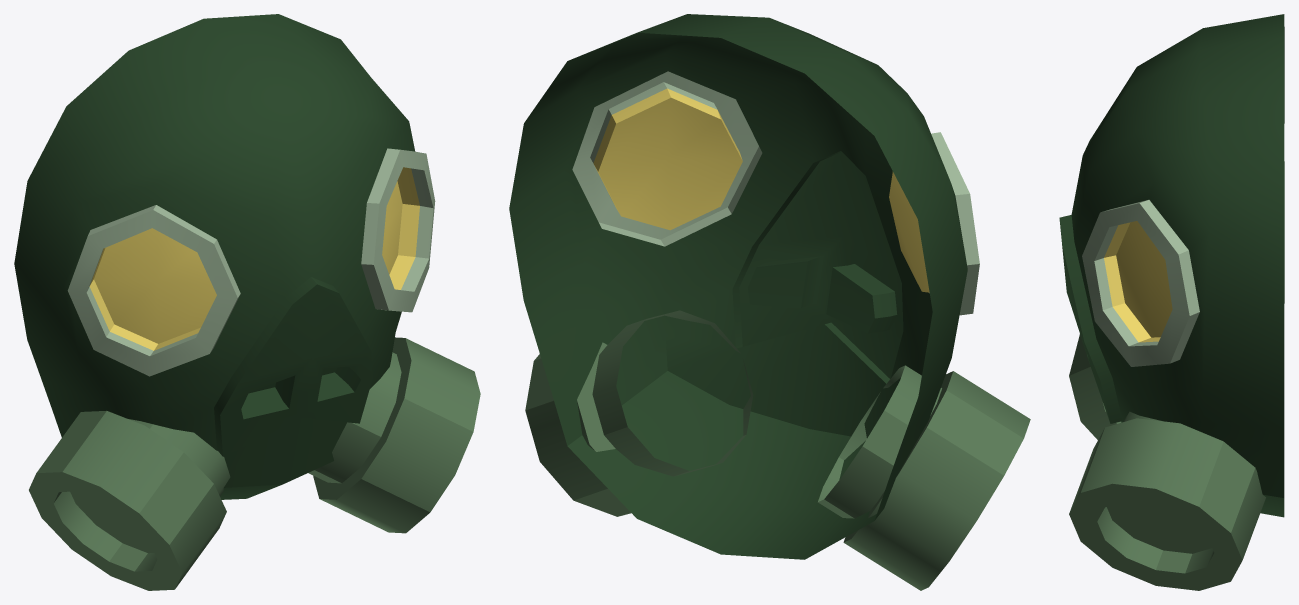
File: Greybox__gasmasks.fbx
3 views of the same model, side by side, from view 1: azimuth 30°, elevation 25°; view 2: azimuth 150°, elevation 25°; view 3: azimuth 270°, elevation 25° (orthographic). The views are drawn at different scales.
Visible parts, largest first — view 1: GasMask; view 2: GasMask; view 3: GasMask.
Boxes of the visible parts, box(x1,y1,x2,y2) form: GasMask: box(14, 14, 480, 590); GasMask: box(509, 14, 1030, 590); GasMask: box(1059, 14, 1284, 590).
Bounding box in the file's own units: 20.02 × 22.53 × 9.36.
